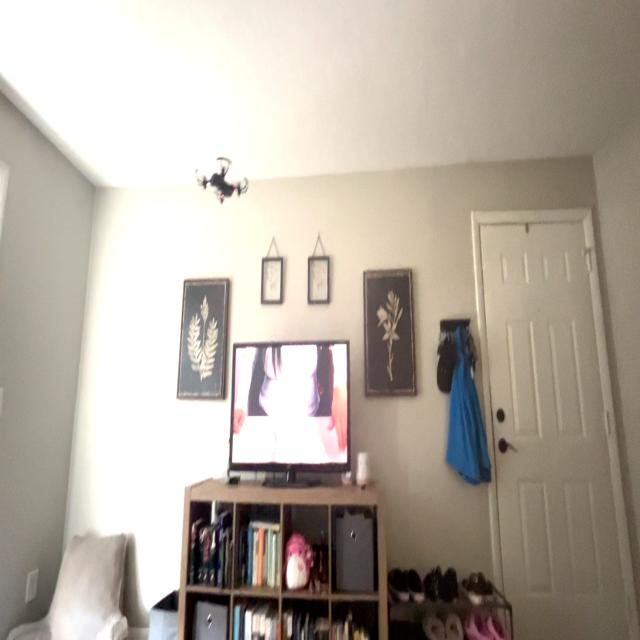drone: (191, 146, 257, 215)
